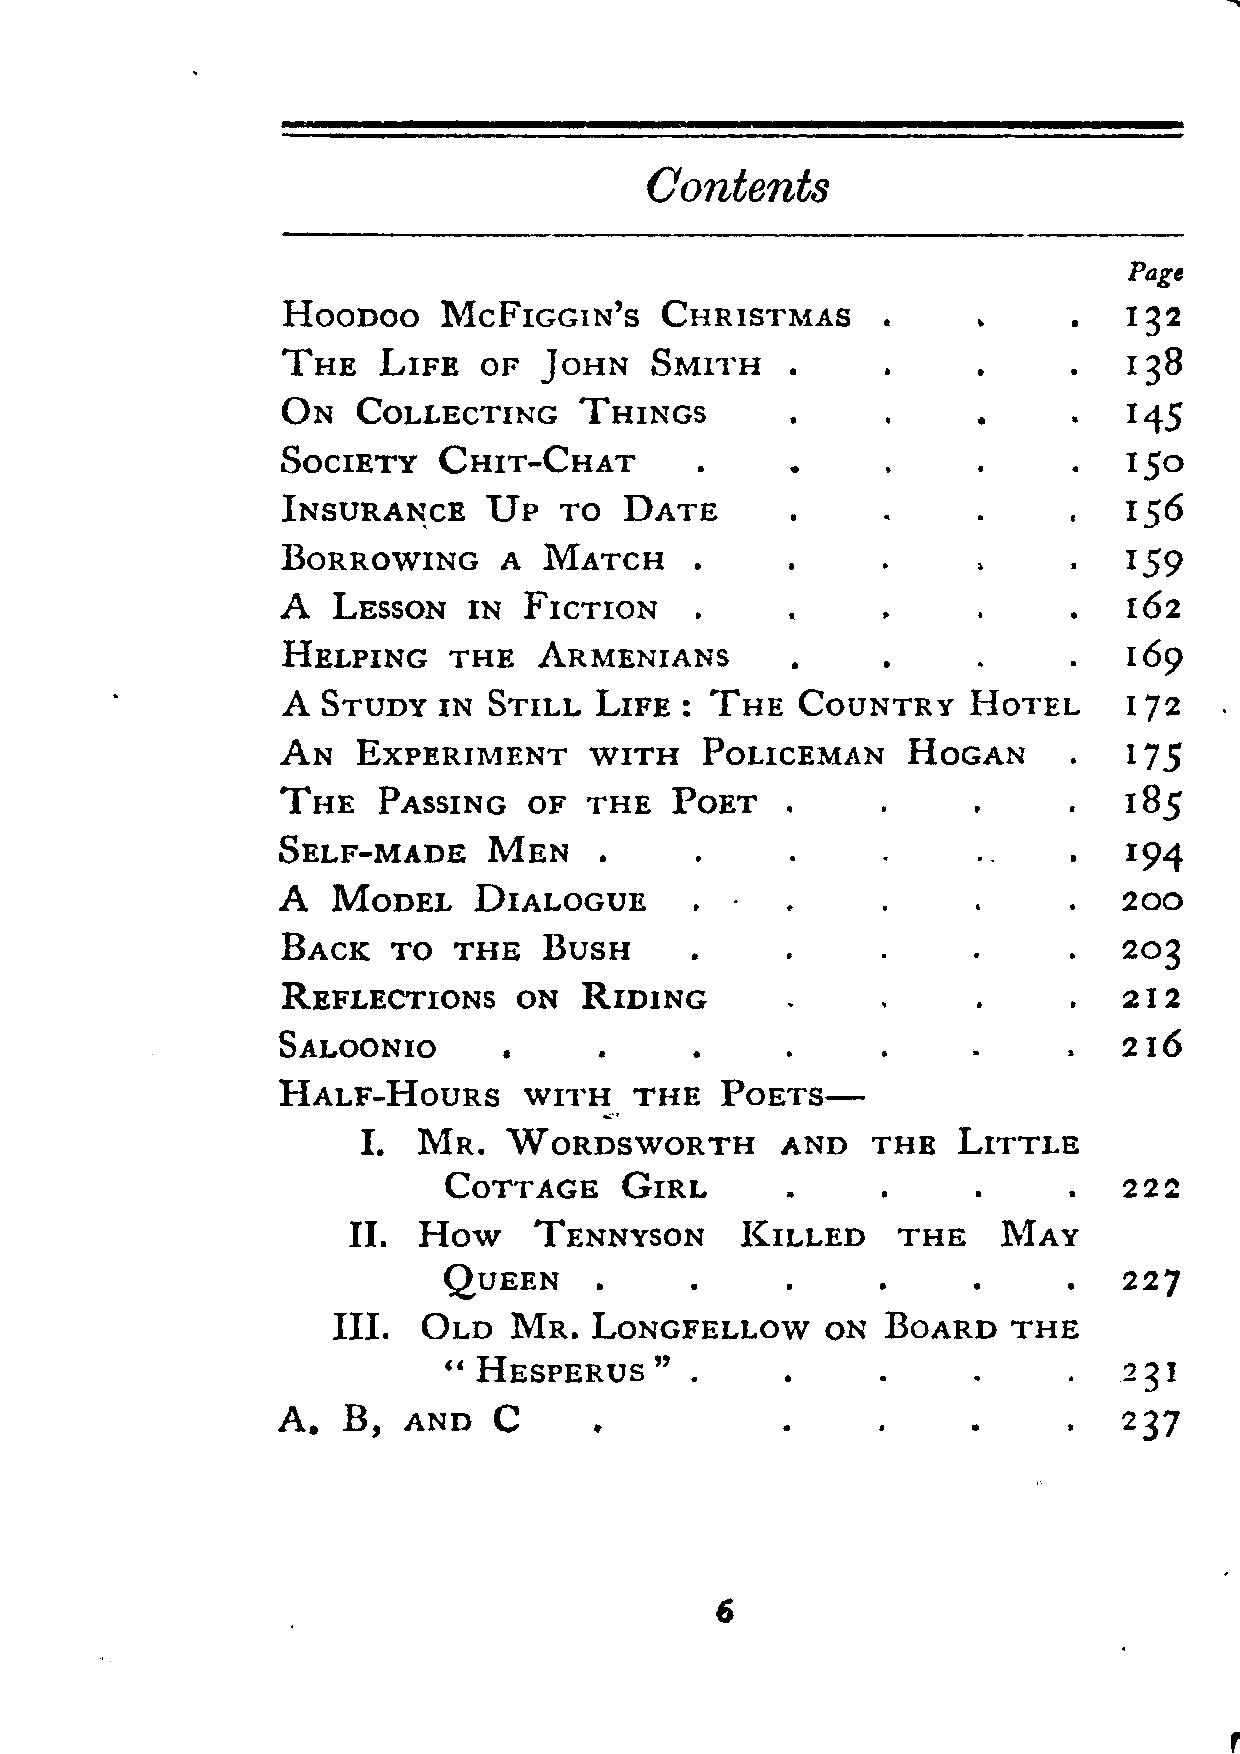TOC_chapter: (354, 1113, 1083, 1206), (338, 1212, 1082, 1303), (329, 1304, 1078, 1389), (280, 683, 1086, 723), (276, 280, 858, 331), (280, 729, 1033, 765), (276, 340, 768, 381), (274, 778, 765, 817), (276, 388, 710, 431), (280, 974, 709, 1017), (276, 488, 717, 530), (279, 633, 729, 674), (276, 923, 635, 972), (274, 537, 666, 580), (279, 585, 667, 628), (272, 878, 660, 919), (264, 825, 578, 868), (272, 443, 641, 479), (272, 1397, 530, 1439), (274, 1023, 443, 1060)
TOC_pagenumber: (1117, 1019, 1190, 1062), (1114, 1351, 1188, 1394), (1121, 833, 1189, 879), (1118, 637, 1190, 679), (1123, 340, 1184, 388), (1114, 930, 1184, 972), (1121, 784, 1188, 827), (1121, 586, 1189, 628), (1114, 884, 1194, 919), (1121, 541, 1188, 582), (1121, 686, 1188, 727), (1123, 443, 1189, 484), (1117, 1404, 1186, 1443), (1118, 493, 1186, 531), (1121, 738, 1188, 776), (1117, 1261, 1186, 1296), (1121, 1166, 1185, 1204), (1123, 293, 1182, 333), (1123, 395, 1188, 431), (1121, 978, 1182, 1015)
chapter: (268, 1066, 870, 1117), (641, 158, 831, 215)
